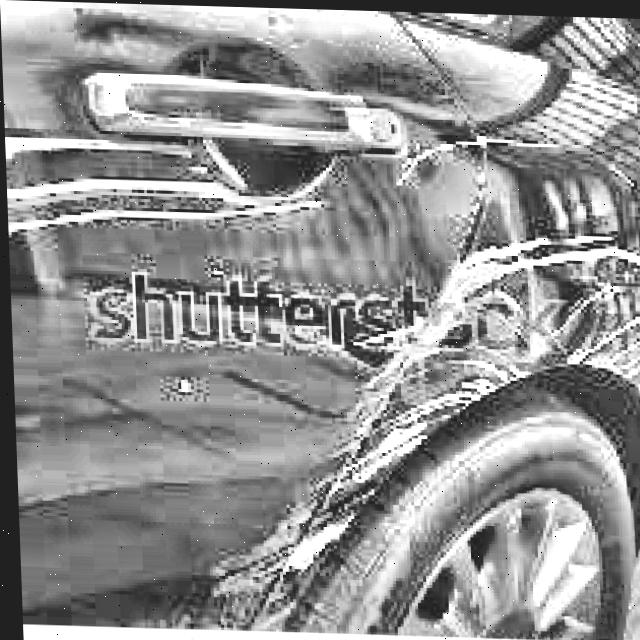door_scratch: (5, 125, 338, 251), (389, 221, 640, 379), (323, 318, 433, 483), (395, 115, 576, 206)
